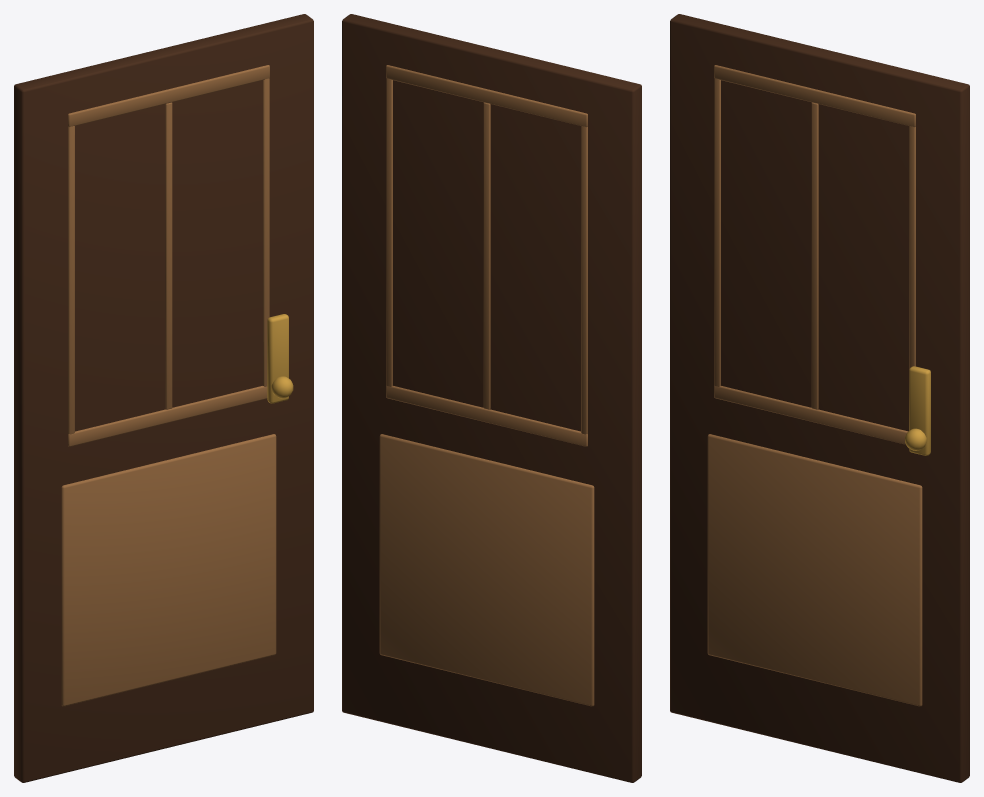
The model's file is Door_Front.glb.
The picture shows the model from 3 angles, left to right: view 1: azimuth 30°, elevation 25°; view 2: azimuth 150°, elevation 25°; view 3: azimuth 330°, elevation 25°; orthographic projection.
Parts seen in each view (by area): view 1: Door_Front; view 2: Door_Front; view 3: Door_Front.
Boxes of the visible parts, left/top/right/bottom form: Door_Front: left=14, top=14, right=313, bottom=782; Door_Front: left=342, top=14, right=641, bottom=782; Door_Front: left=670, top=14, right=969, bottom=782.
Size of the model in its own units: 0.9 by 2.04 by 0.1212.
